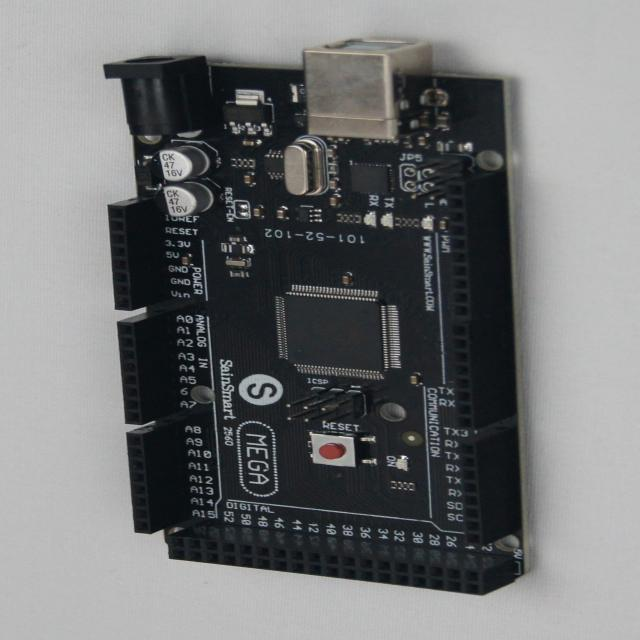Arduino Mega 2560 -Black-: (105, 40, 526, 594)
